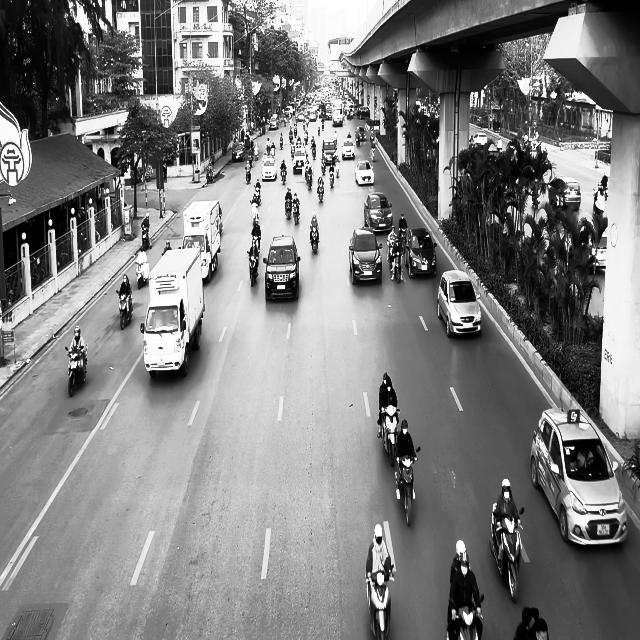car: (530, 406, 628, 547), (436, 269, 482, 338), (263, 234, 300, 302), (349, 227, 382, 284), (405, 227, 437, 278), (548, 176, 581, 212), (364, 192, 393, 232), (588, 232, 607, 273), (355, 160, 374, 185), (292, 148, 308, 174), (261, 156, 277, 181), (341, 137, 355, 159), (231, 142, 245, 161)
motorbike: (490, 503, 524, 603), (366, 566, 395, 640), (394, 446, 420, 526), (446, 594, 484, 639), (378, 405, 400, 466), (65, 344, 87, 396), (116, 289, 133, 330), (247, 249, 259, 287), (135, 257, 149, 289), (309, 226, 319, 253), (141, 224, 151, 250), (250, 199, 259, 224), (292, 202, 300, 225), (317, 182, 324, 202)
truck: (140, 247, 205, 378), (180, 199, 222, 283)
